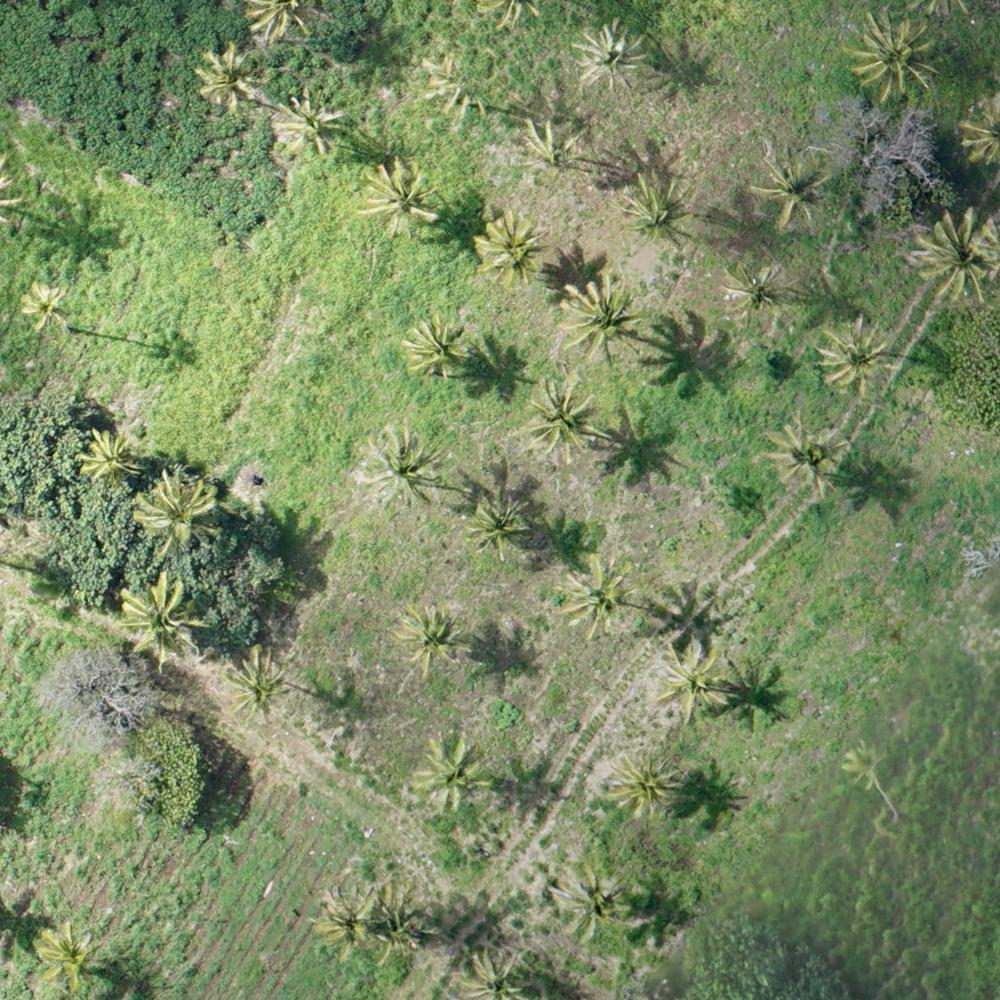Palm: (116, 577, 211, 666), (850, 9, 937, 98), (557, 276, 639, 366), (919, 206, 996, 300), (362, 427, 451, 506), (549, 861, 633, 944), (765, 414, 847, 496), (723, 251, 808, 330), (558, 556, 639, 636), (135, 473, 222, 547), (525, 378, 603, 460), (752, 146, 831, 223), (359, 159, 439, 235), (399, 602, 476, 679), (615, 177, 696, 248), (516, 114, 592, 189), (817, 315, 890, 391), (661, 641, 733, 718), (417, 738, 492, 810), (398, 316, 473, 388), (605, 748, 682, 817), (274, 89, 348, 159), (479, 213, 548, 288), (35, 923, 105, 995), (221, 651, 291, 721), (578, 21, 646, 90), (451, 944, 532, 1000), (316, 886, 380, 956), (466, 491, 533, 557), (192, 46, 257, 114), (371, 889, 435, 955), (78, 430, 141, 492), (19, 279, 69, 336), (839, 743, 890, 794)
